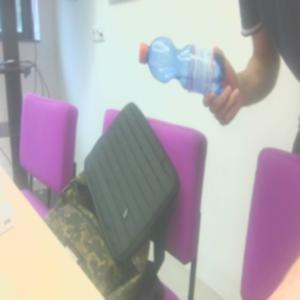Plastic-bottle: (140, 37, 228, 99)
